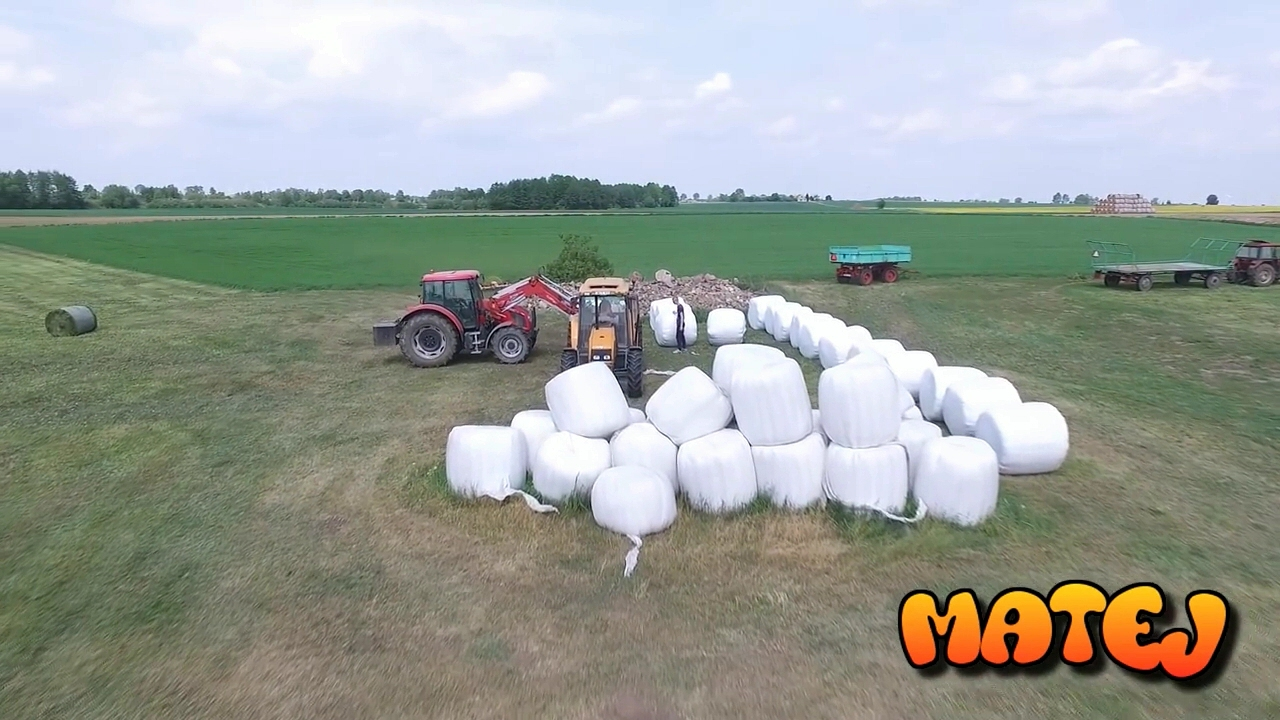insan: (670, 294, 687, 353)
traktor: (397, 269, 538, 366), (561, 276, 643, 399), (1224, 240, 1280, 289)
